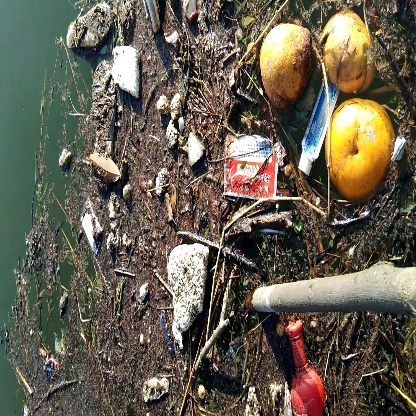ball: (324, 102, 395, 200)
bottle: (283, 324, 330, 416)
